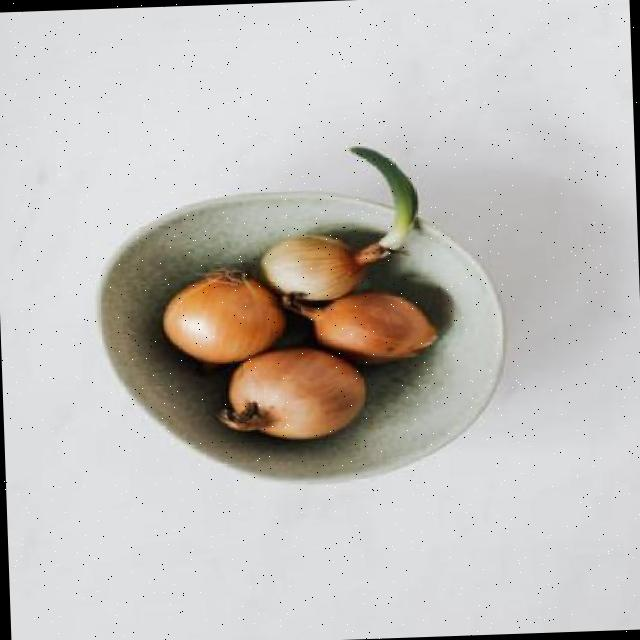Onion: (218, 346, 366, 438), (163, 270, 284, 361), (288, 291, 437, 360), (261, 233, 364, 298)
